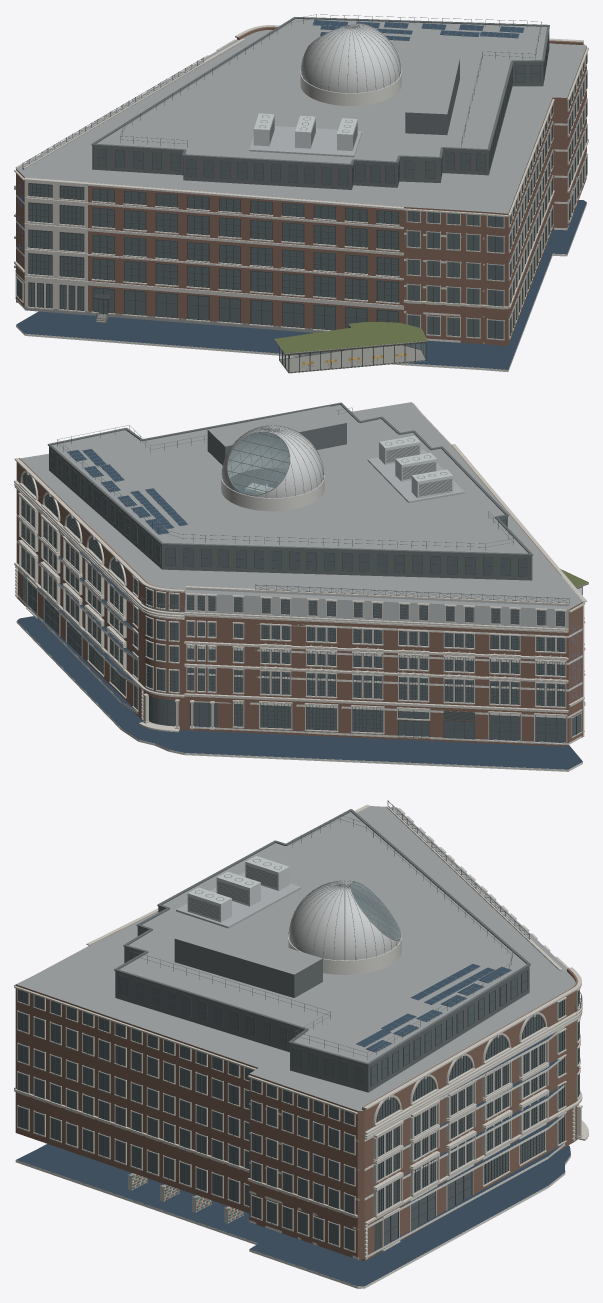
File: lrb-exterior-6146fa0599cc.glb
3 views of the same model, one above another, from view 1: azimuth 30°, elevation 25°; view 2: azimuth 150°, elevation 25°; view 3: azimuth 270°, elevation 25° (orthographic). The views are drawn at different scales.
Visible parts, largest first — view 1: LRB.001; view 2: LRB.001; view 3: LRB.001.
Boxes of the visible parts, bbox=[...] form: LRB.001: bbox=[14, 14, 588, 373]; LRB.001: bbox=[14, 402, 588, 771]; LRB.001: bbox=[14, 800, 588, 1288].
Bounding box in the file's own units: 89.68 × 36.89 × 70.98.
